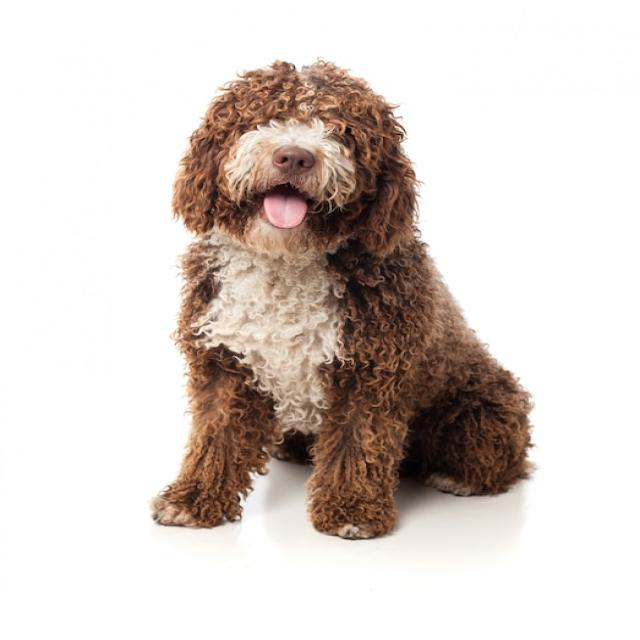Dog: (151, 63, 534, 538)
